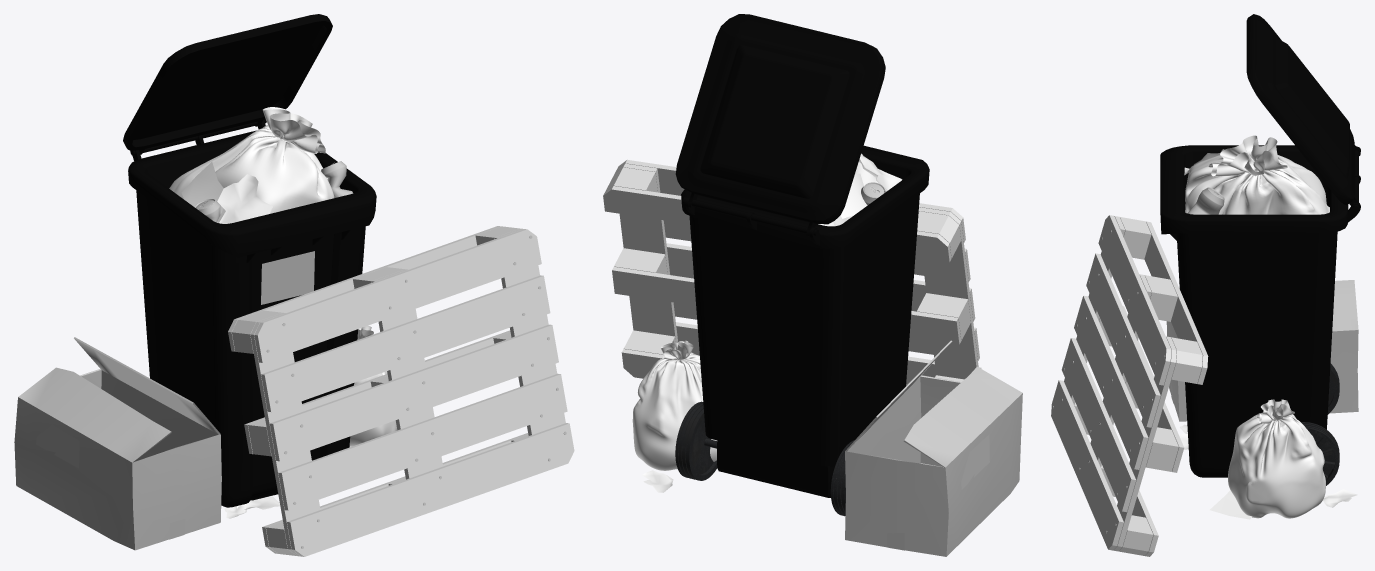
File: KB3D_CTS_BldgSM_M.fbx
The picture shows the model from 3 angles, left to right: view 1: azimuth 30°, elevation 25°; view 2: azimuth 150°, elevation 25°; view 3: azimuth 270°, elevation 25°; orthographic projection. The views are drawn at different scales.
Parts seen in each view (by area): view 1: KB3D_CTS_BldgSM_M_Trashcan, KB3D_CTS_BldgSM_M_Palete, KB3D_CTS_BldgSM_M_Trash; view 2: KB3D_CTS_BldgSM_M_Trashcan, KB3D_CTS_BldgSM_M_Palete, KB3D_CTS_BldgSM_M_Trash; view 3: KB3D_CTS_BldgSM_M_Trashcan, KB3D_CTS_BldgSM_M_Palete, KB3D_CTS_BldgSM_M_Trash.
Boxes of the visible parts, x1,y1,x2,y2 form: KB3D_CTS_BldgSM_M_Trashcan: (14, 14, 376, 550); KB3D_CTS_BldgSM_M_Palete: (228, 226, 574, 556); KB3D_CTS_BldgSM_M_Trash: (349, 325, 397, 446); KB3D_CTS_BldgSM_M_Trashcan: (675, 14, 1022, 556); KB3D_CTS_BldgSM_M_Palete: (603, 160, 981, 385); KB3D_CTS_BldgSM_M_Trash: (632, 340, 717, 492); KB3D_CTS_BldgSM_M_Trashcan: (1160, 14, 1360, 485); KB3D_CTS_BldgSM_M_Palete: (1051, 215, 1208, 556); KB3D_CTS_BldgSM_M_Trash: (1210, 399, 1357, 519).
Size of the model in its own units: 154 by 152 by 103.
